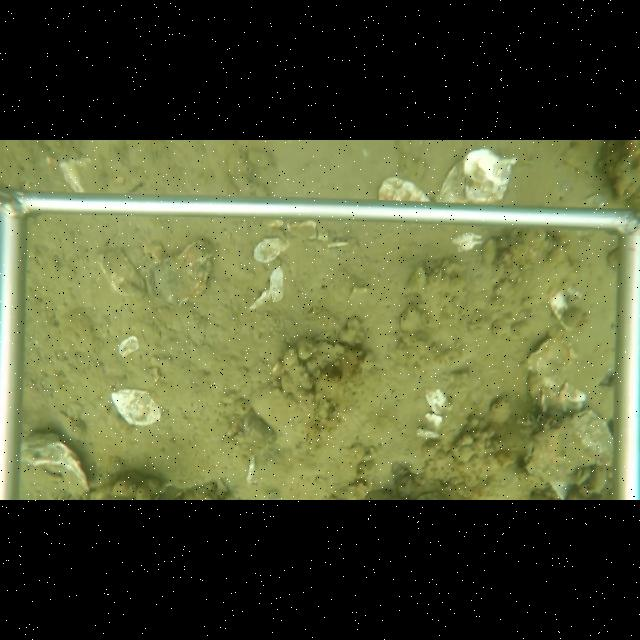Oyster-Closed: (522, 404, 614, 484), (145, 236, 215, 312)
